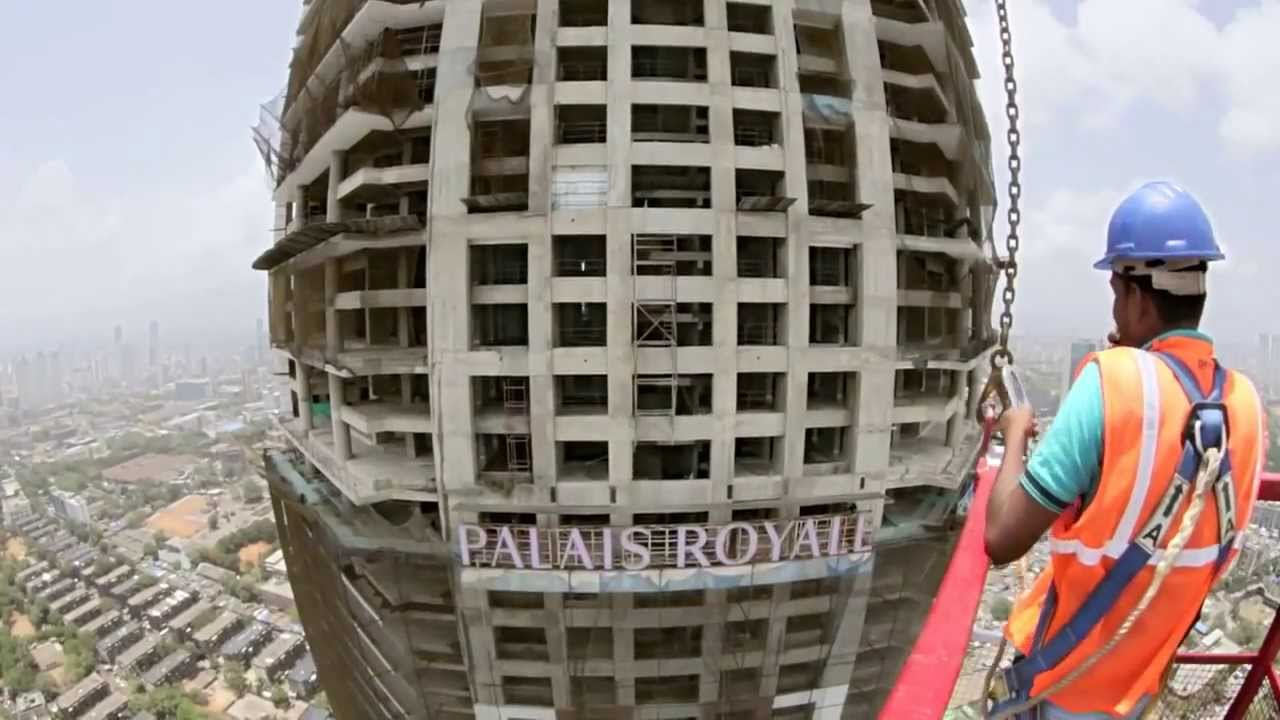SAFE: (1049, 179, 1236, 665)
